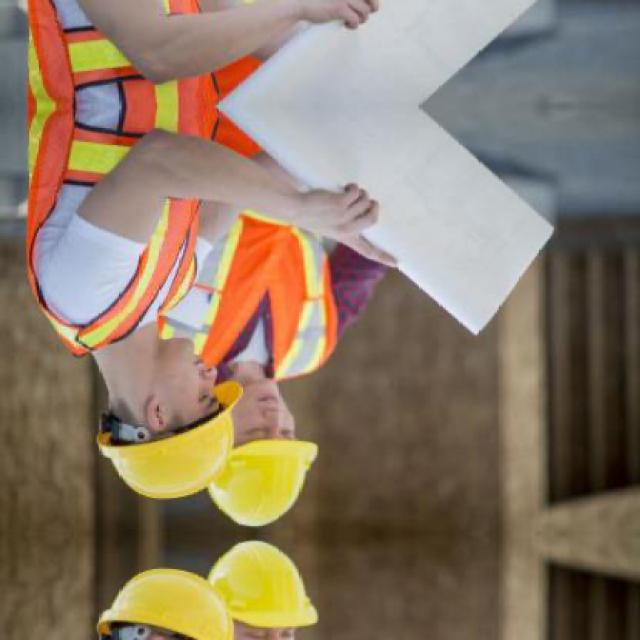con casco: (37, 311, 247, 483), (192, 328, 347, 538)
